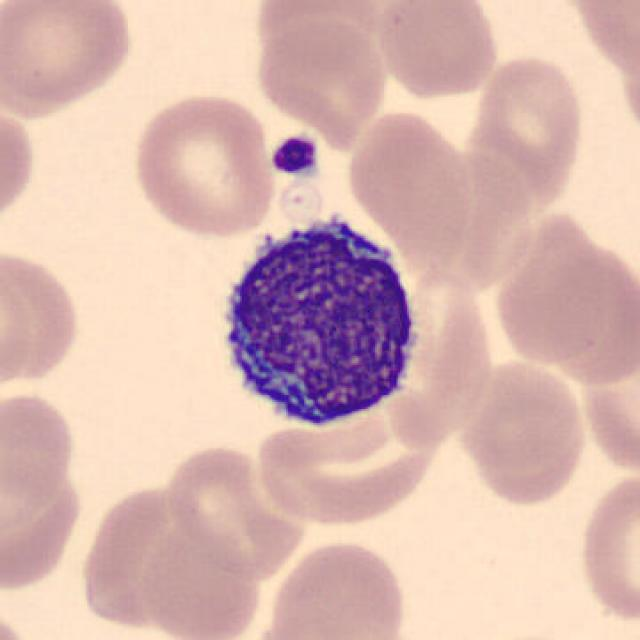Lymphocyte: (203, 204, 432, 436)
Platelets: (266, 130, 324, 180)
RBC: (76, 479, 263, 640), (251, 388, 446, 531), (128, 88, 279, 242), (462, 49, 588, 222), (343, 106, 477, 266), (496, 233, 636, 384), (160, 439, 309, 580), (455, 353, 592, 504), (251, 8, 391, 152), (255, 536, 412, 640), (0, 0, 137, 118), (0, 436, 90, 593), (371, 0, 503, 100), (0, 241, 85, 393), (247, 0, 402, 76), (0, 386, 80, 517), (574, 466, 638, 628), (578, 323, 640, 471), (0, 97, 39, 234), (0, 245, 34, 402)
